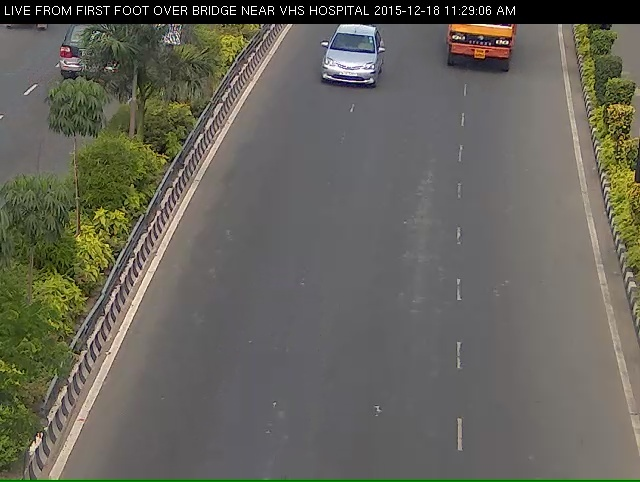Car: (309, 28, 386, 102)
